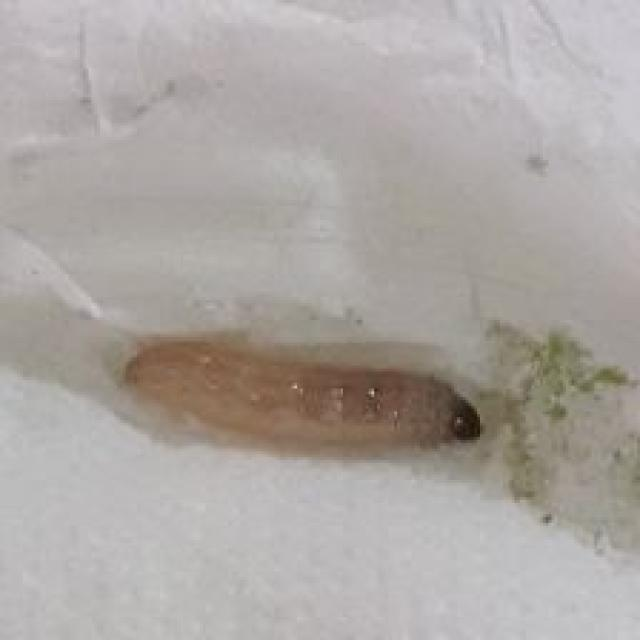white mucus: (102, 328, 486, 464)
